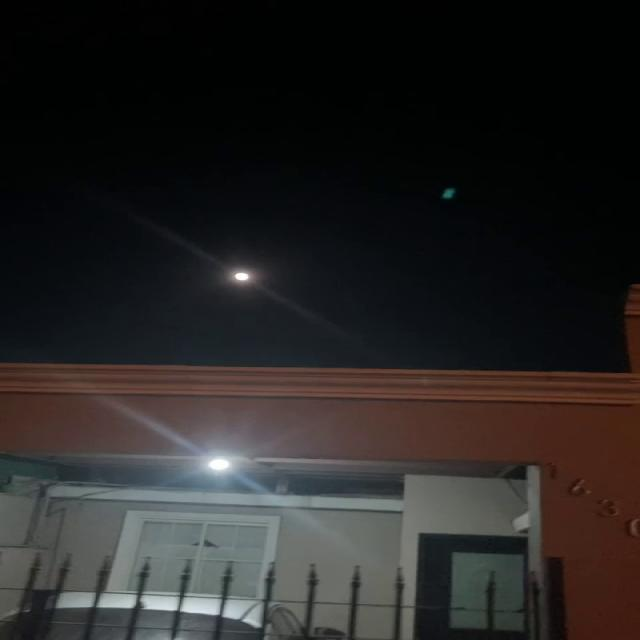moon: (231, 270, 266, 289)
